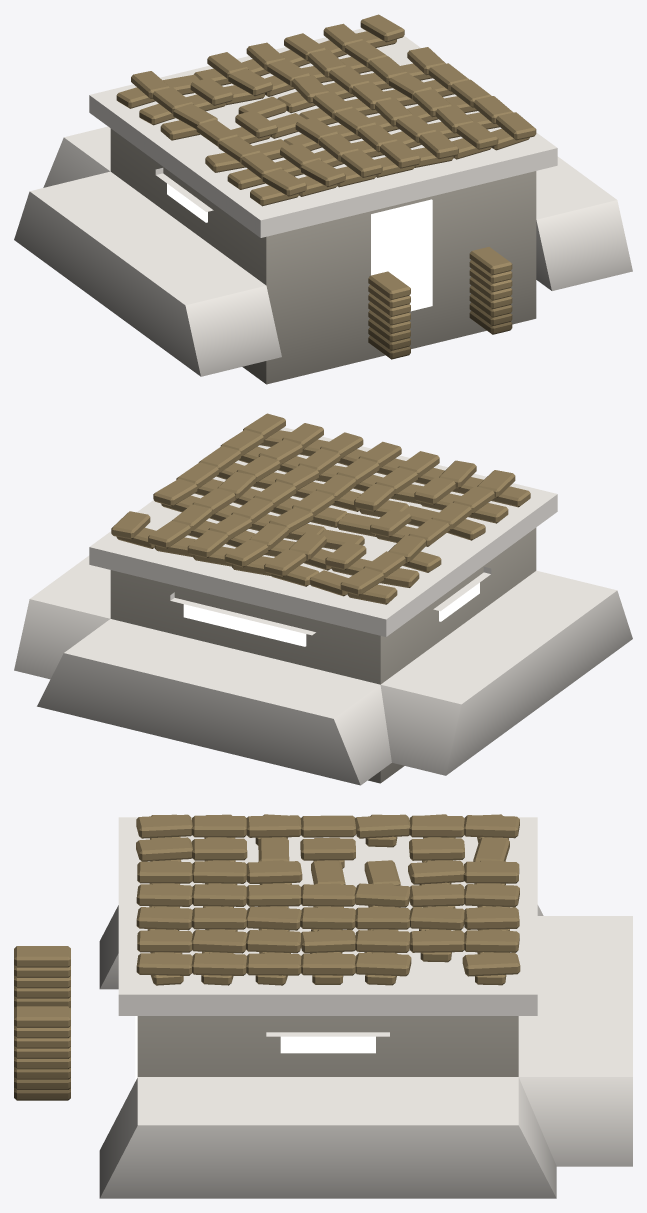
File: bunker_fighting.glb
3 renders of one model, top to bottom at view 1: azimuth 30°, elevation 25°; view 2: azimuth 150°, elevation 25°; view 3: azimuth 270°, elevation 25°, orthographic. The views are drawn at different scales.
Parts seen in each view (by area): view 1: bunker_fighting_LOD0; view 2: bunker_fighting_LOD0; view 3: bunker_fighting_LOD0.
Part boxes in pixels (left/top/right/bottom): bunker_fighting_LOD0: left=14, top=14, right=632, bottom=384; bunker_fighting_LOD0: left=14, top=413, right=632, bottom=785; bunker_fighting_LOD0: left=14, top=814, right=632, bottom=1198.
Size of what is drawn, in the model's own units: 6.4 by 2.71 by 6.5.
